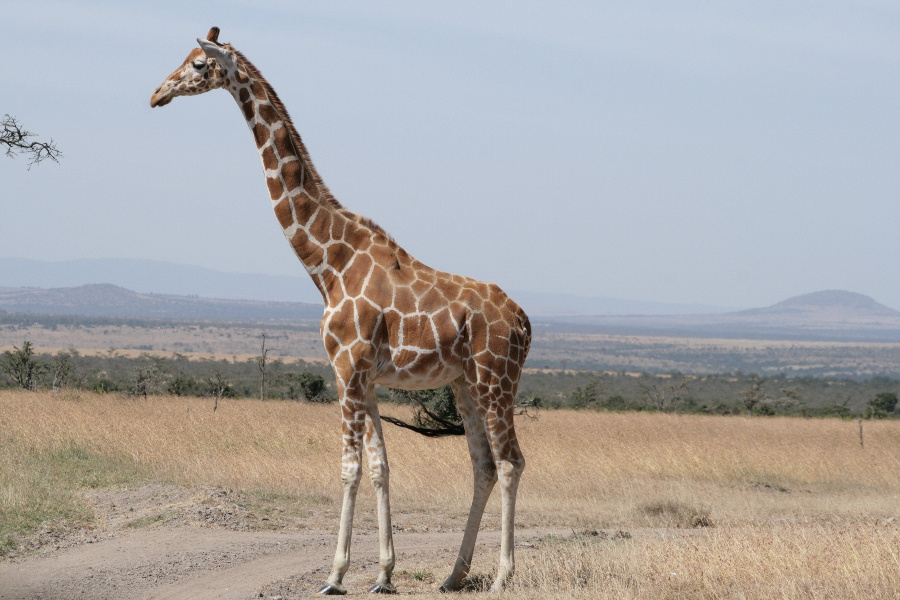giraffe: (139, 17, 538, 590)
